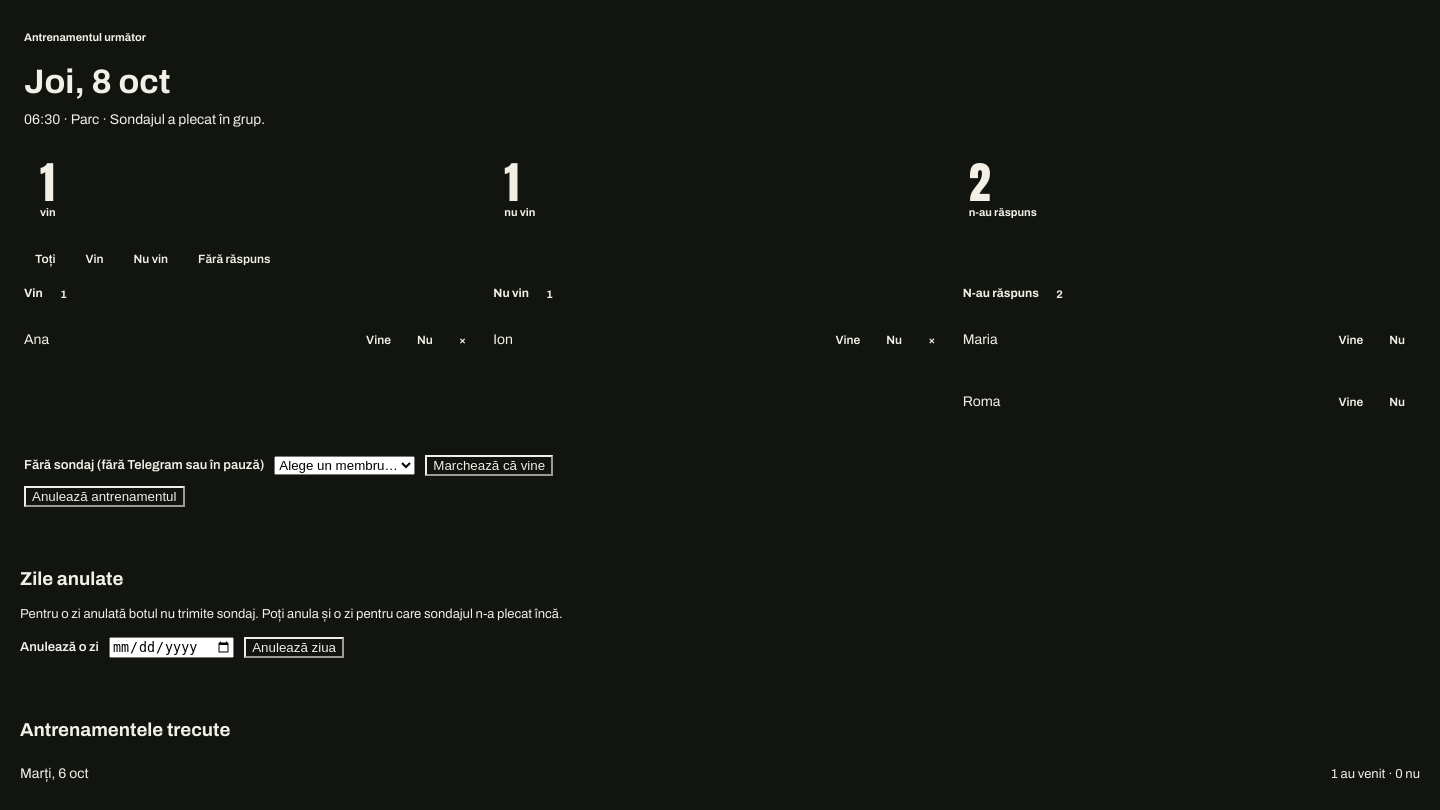
Test: Prezențe › Covers R13. cu sondajul plecat, confirmarea spune că botul anunță grupul și pe câți pomenește
Check: the heading "Joi, 8 oct" is shown, box [24,63,170,100]
What coordinates should you click on to do the following:
click the button "Anulează antrenamentul"
I would click on:
 (104, 496)
Its box is [24,486,184,507].
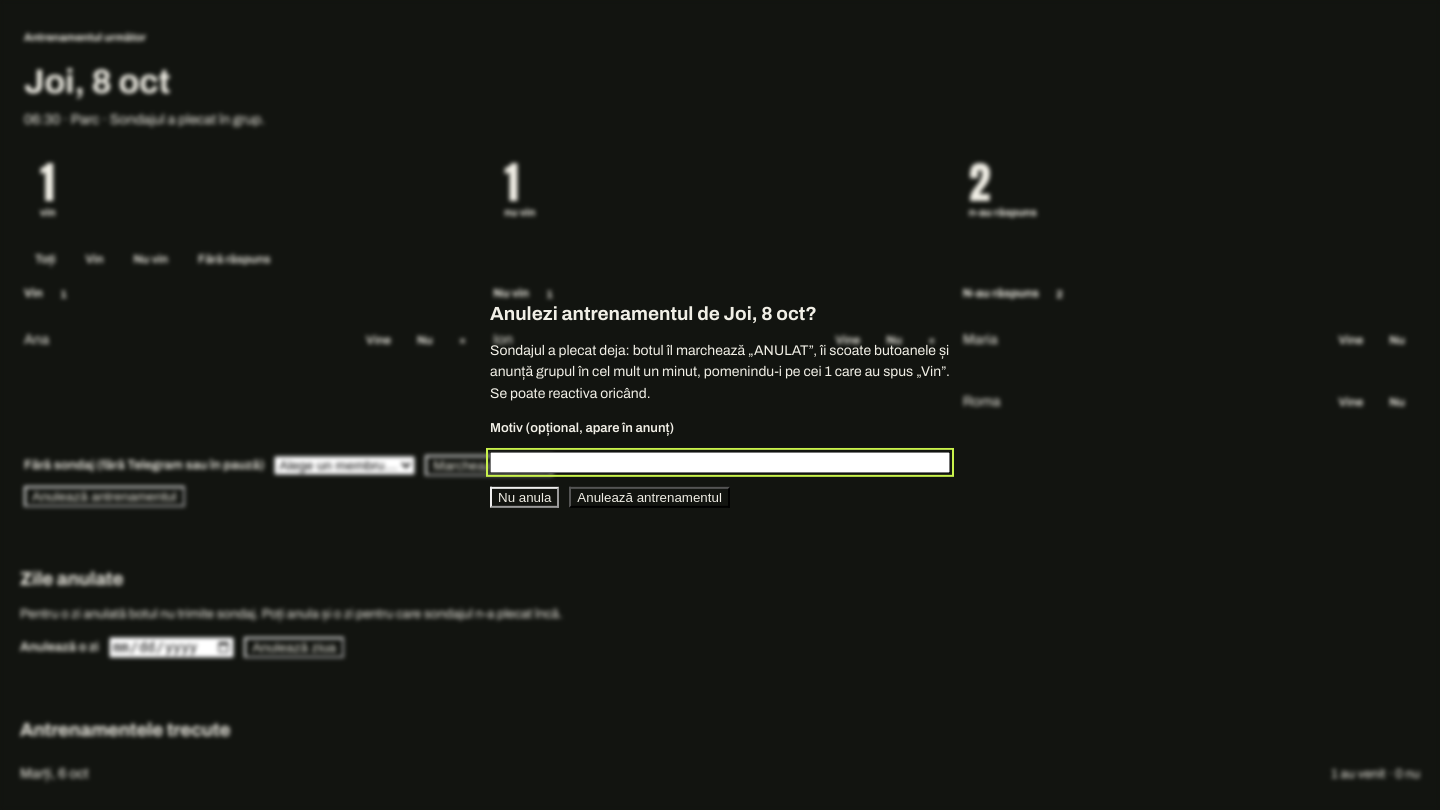
Check: the dialog shows "anunță grupul", box [490,343,950,379]
Check: the dialog shows "pe cei 1 care au spus „Vin”", box [490,343,950,379]
